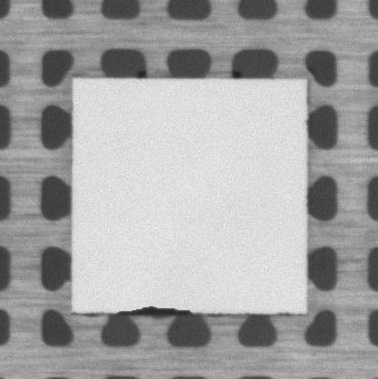DIE_BROKEN: (112, 305, 195, 315)
